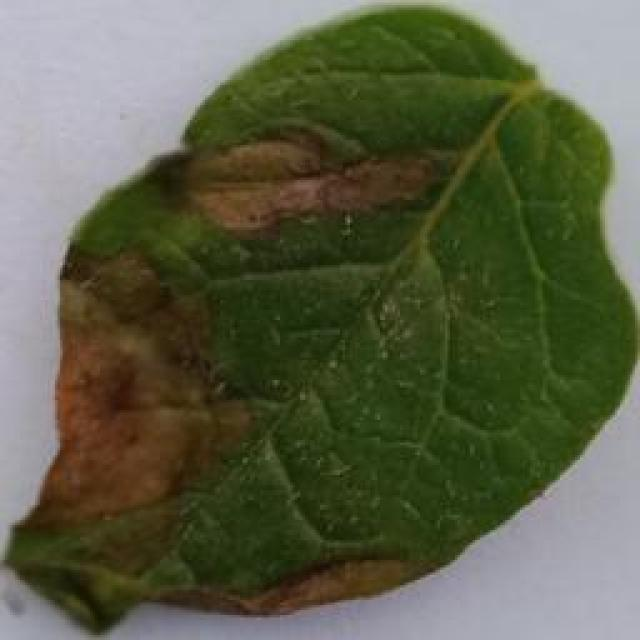Potato_Late_Blight: (7, 6, 626, 633)
